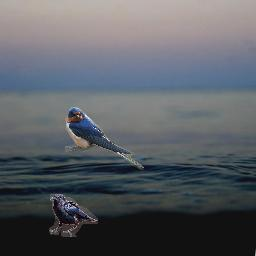Crow: (49, 194, 98, 237)
Swallow: (65, 107, 144, 170)
